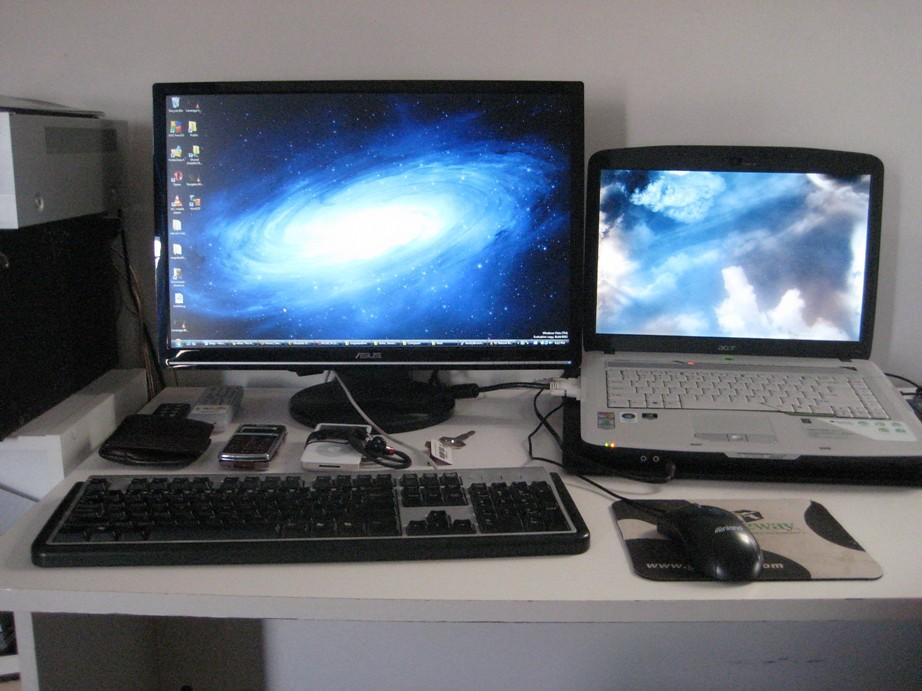computer: (152, 79, 586, 434), (579, 144, 922, 483)
